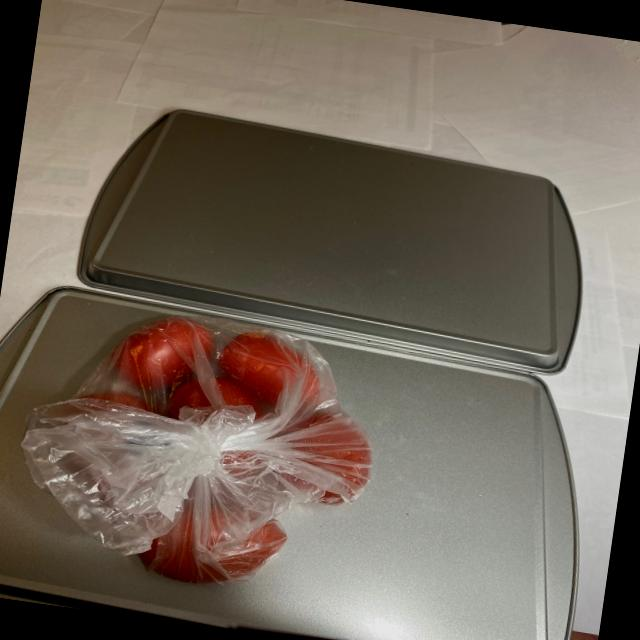tomato: (44, 302, 382, 605)
